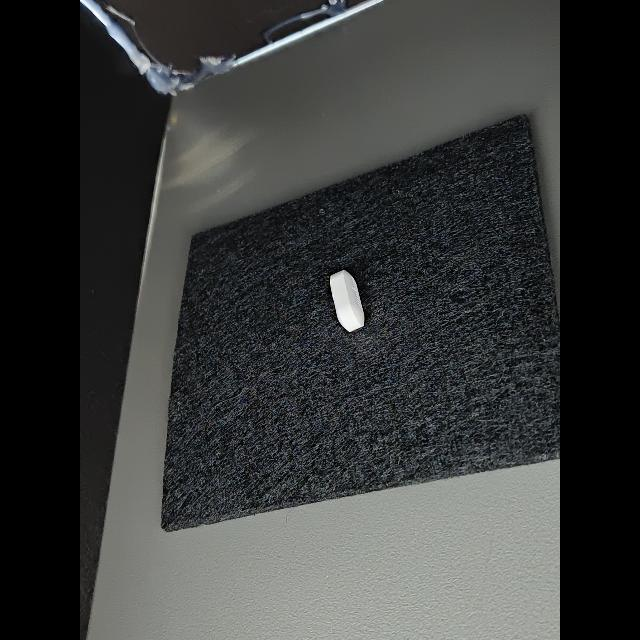Intact Pill: (330, 270, 364, 332)
